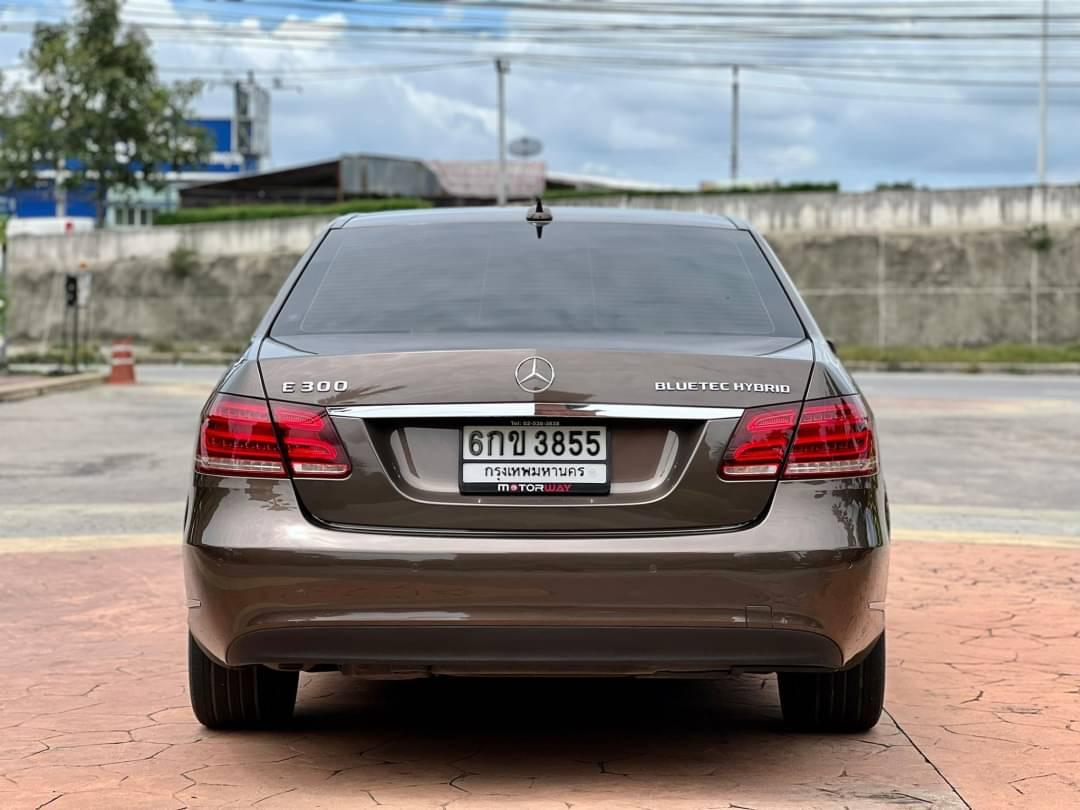license-plate: (458, 418, 610, 495)
